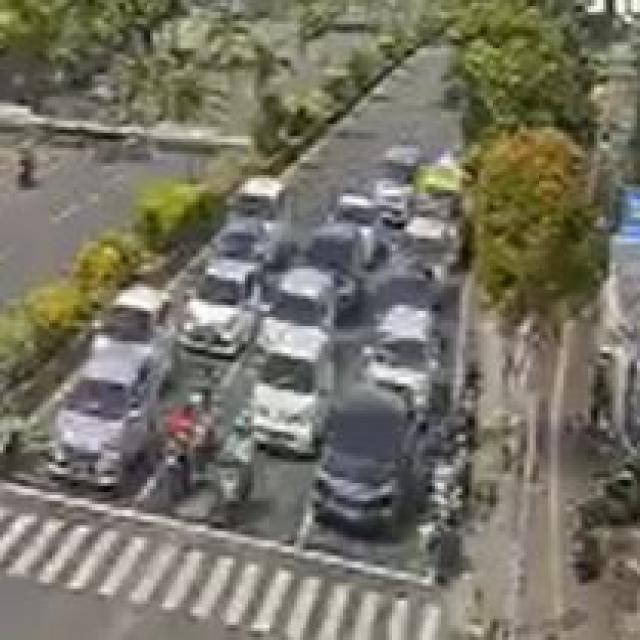car: (41, 339, 167, 508), (313, 379, 412, 540), (252, 322, 342, 458), (185, 260, 259, 366)
motorbike: (211, 419, 262, 535), (158, 402, 208, 512)
